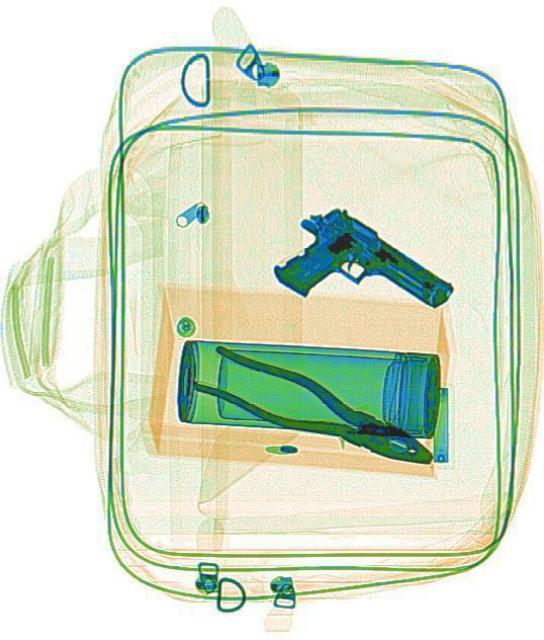Gun: (265, 188, 455, 368)
Pliers: (187, 334, 437, 484)
